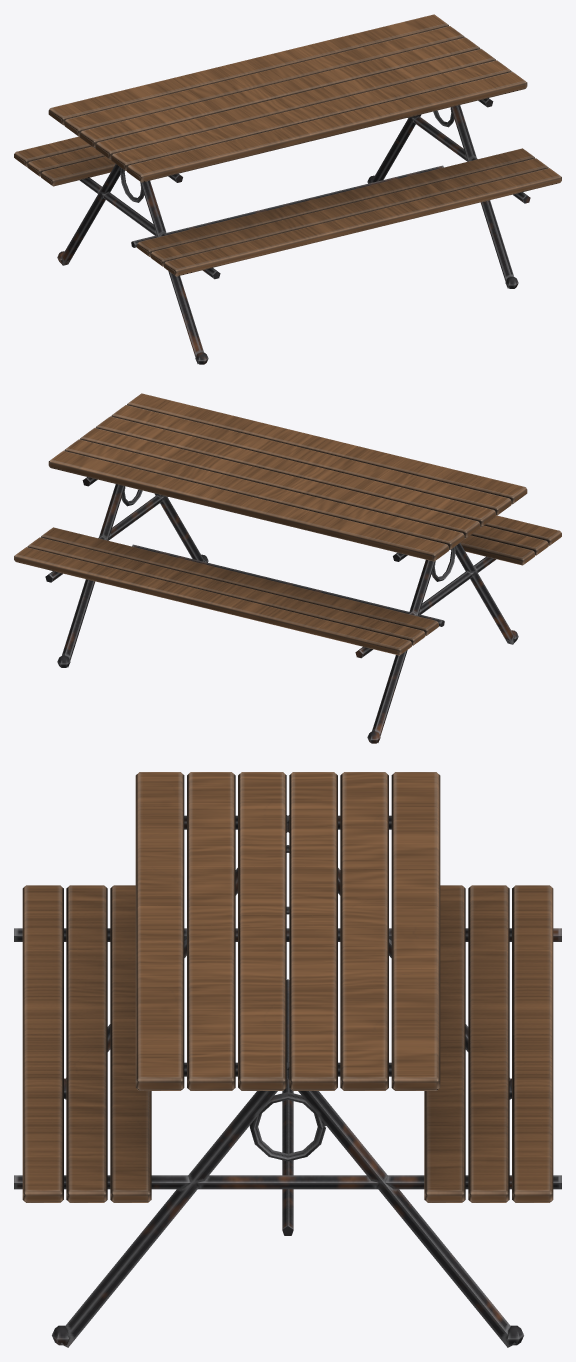
File: CourtyardBenchTable.fbx
The picture shows the model from 3 angles, top to bottom: view 1: azimuth 30°, elevation 25°; view 2: azimuth 150°, elevation 25°; view 3: azimuth 270°, elevation 25°; orthographic projection. The views are drawn at different scales.
Parts seen in each view (by area): view 1: CourtyardBenchTable; view 2: CourtyardBenchTable; view 3: CourtyardBenchTable.
Part boxes in pixels (<box>): CourtyardBenchTable: <box>14,14,561,364</box>; CourtyardBenchTable: <box>14,393,561,743</box>; CourtyardBenchTable: <box>14,772,561,1347</box>.
Bounding box in the file's own units: 600 × 269 × 450.
